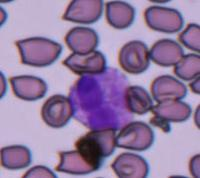E: (68, 68, 132, 130)
